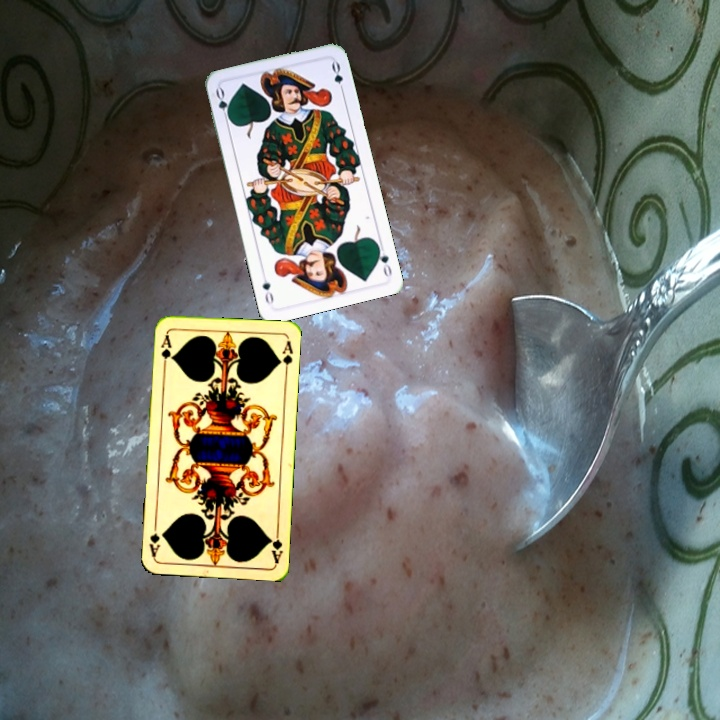GA: (266, 524, 285, 565), (157, 329, 174, 370)
GO: (211, 84, 234, 125), (373, 239, 394, 279)
